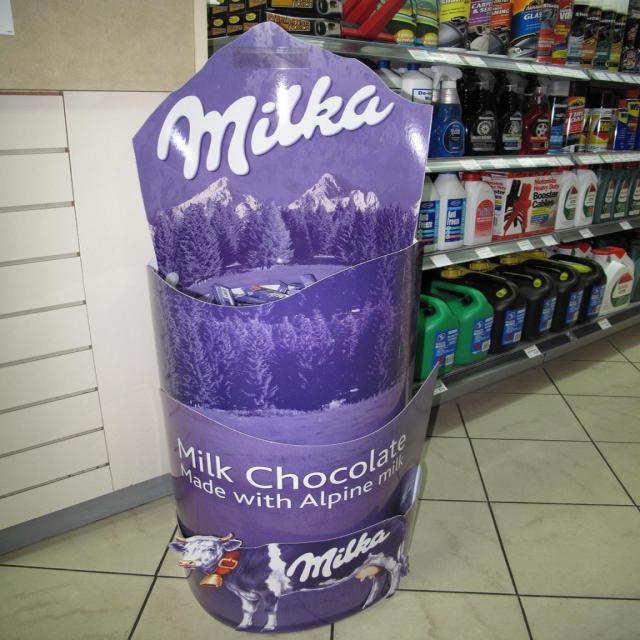milka: (149, 69, 423, 638)
